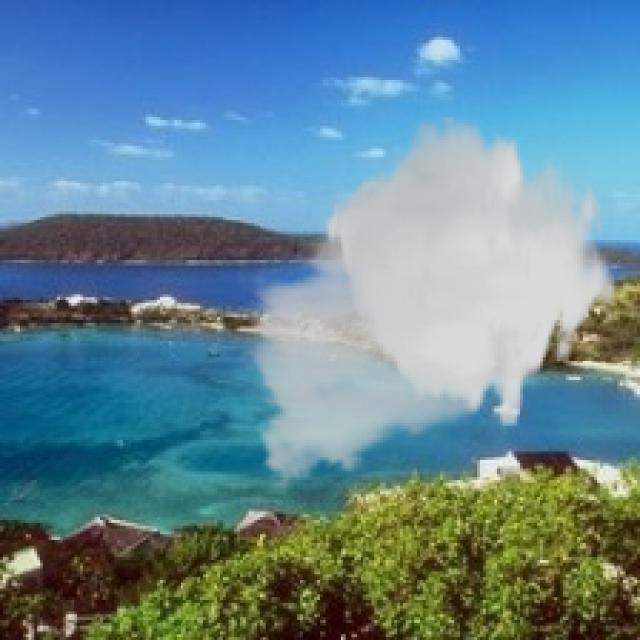Smoke: (237, 117, 617, 497)
